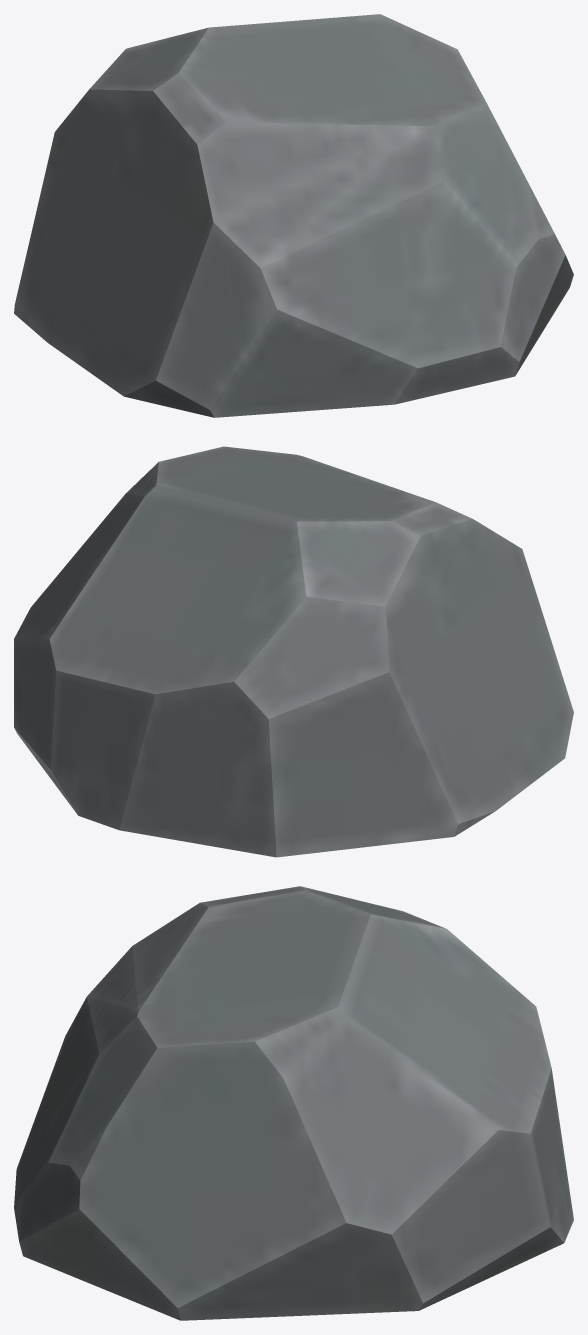
File: rock-7.glb
The picture shows the model from 3 angles, top to bottom: view 1: azimuth 30°, elevation 25°; view 2: azimuth 150°, elevation 25°; view 3: azimuth 270°, elevation 25°; orthographic projection. The views are drawn at different scales.
Parts seen in each view (by area): view 1: model; view 2: model; view 3: model.
Part boxes in pixels (x1,y1,x2,y2): model: (14, 14, 573, 417); model: (14, 446, 573, 857); model: (14, 886, 573, 1320).
Size of the model in its own units: 0.5228 by 0.2854 by 0.5337.
Materials: 1 (1 with a texture image).
